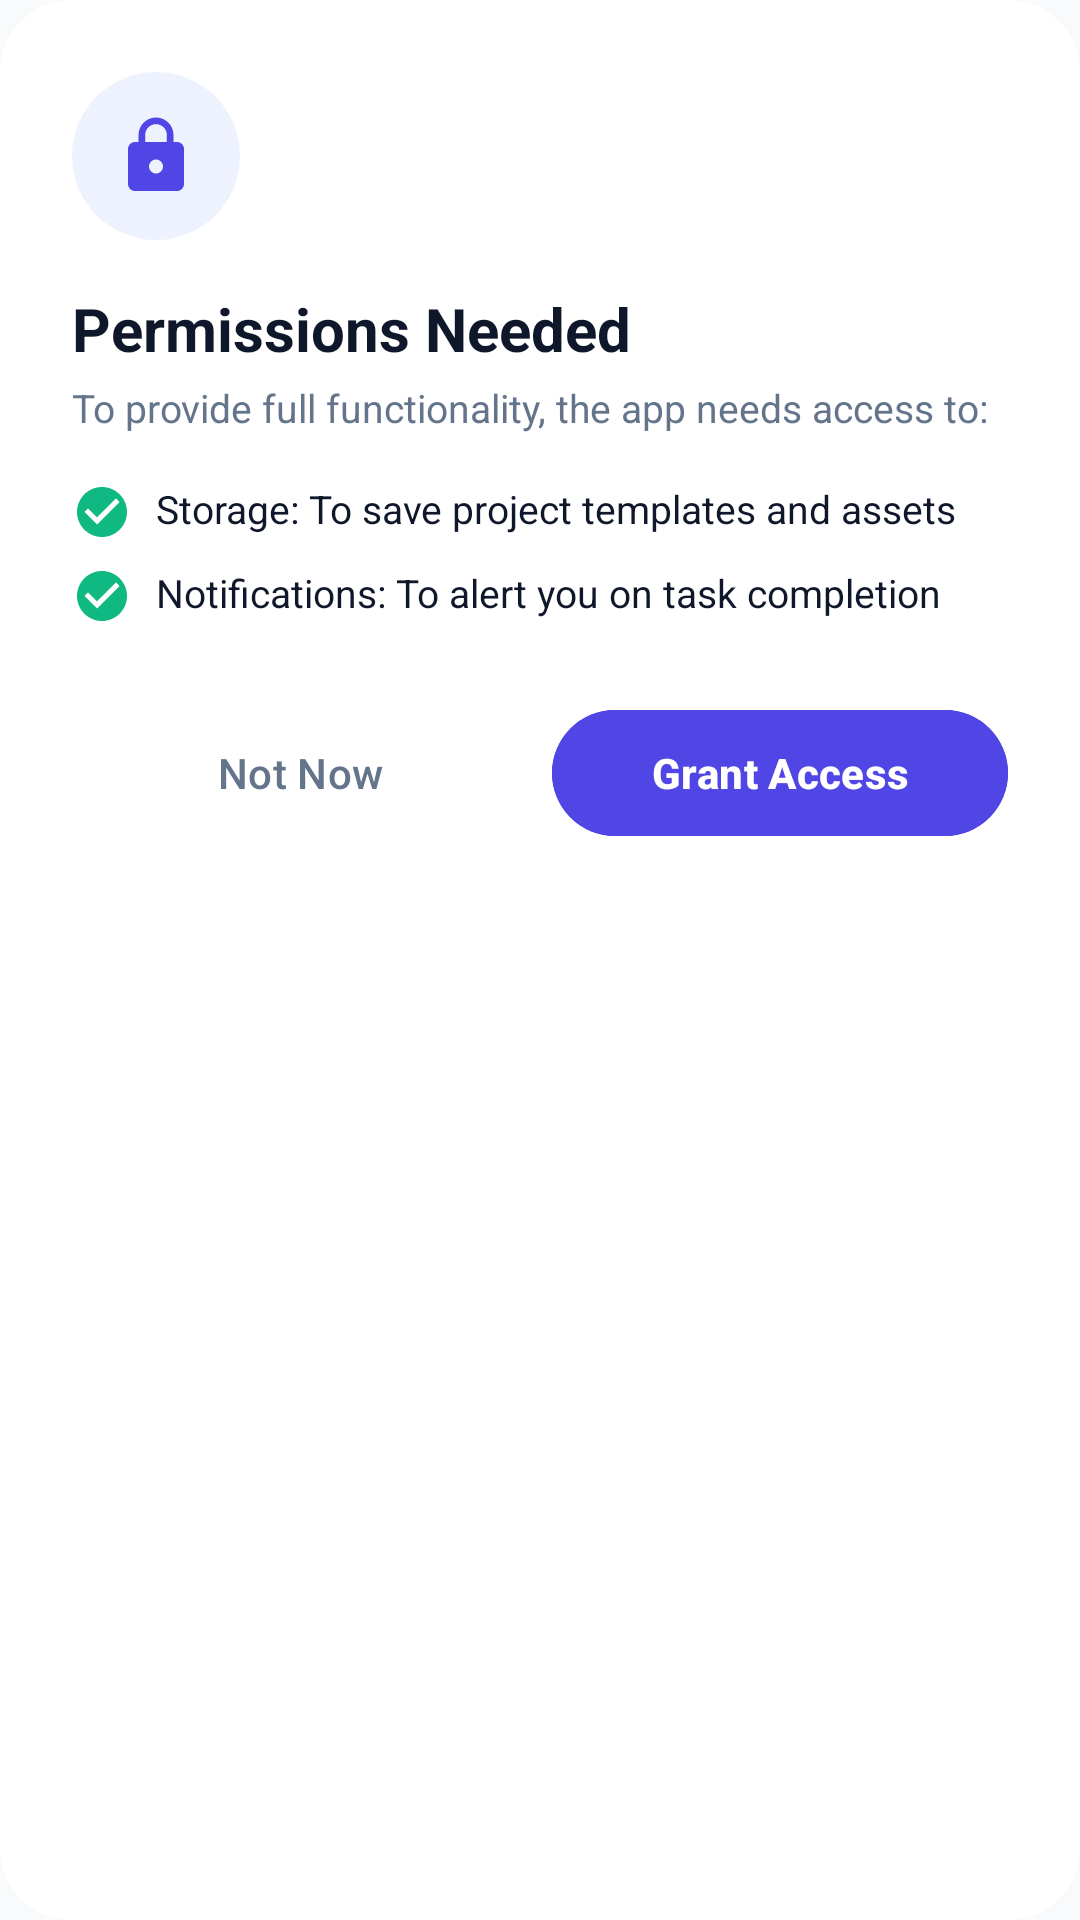

Point at icon controls on the screen. Image size 1080px×1920px, points as point (x, y).
Check: point (102, 512), point (102, 596)
